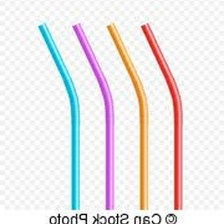drinking_straw: (34, 17, 88, 212), (138, 16, 189, 212), (69, 16, 119, 212), (104, 15, 153, 211)
